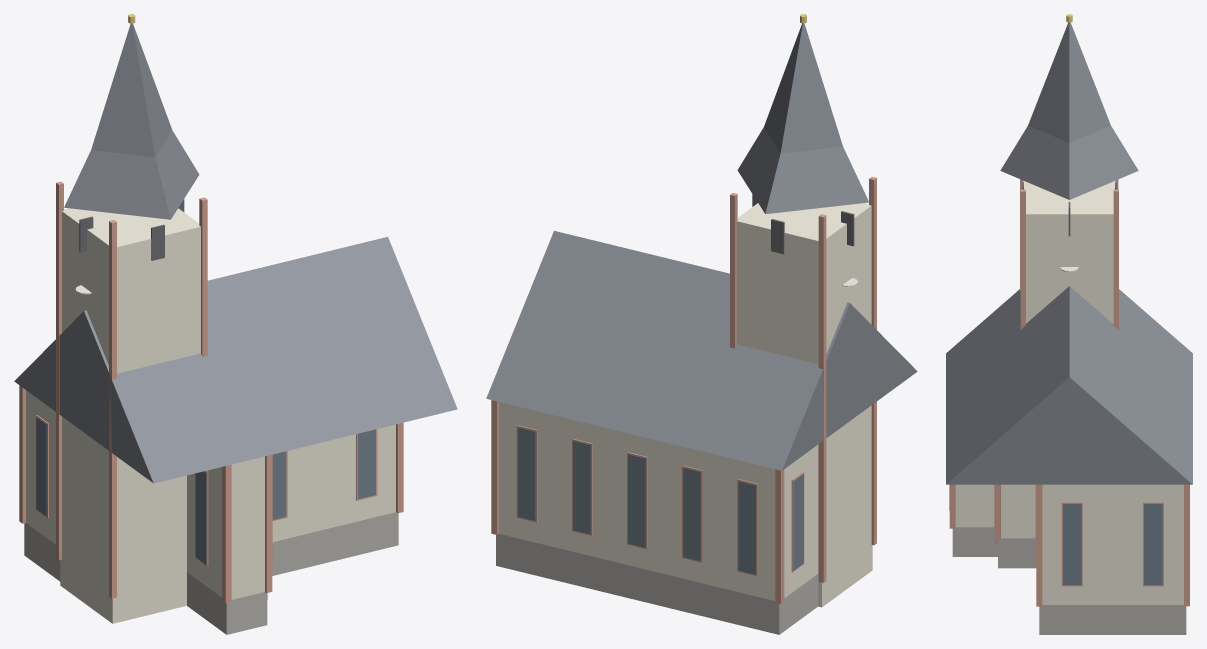
File: church-sankt-nikolaus.glb
The picture shows the model from 3 angles, left to right: view 1: azimuth 30°, elevation 25°; view 2: azimuth 150°, elevation 25°; view 3: azimuth 270°, elevation 25°; orthographic projection. The views are drawn at different scales.
Parts seen in each view (by area): view 1: building; view 2: building; view 3: building.
Boxes of the visible parts, box(x1,y1,x2,y2) form: building: box(14, 14, 457, 634); building: box(486, 14, 917, 634); building: box(946, 14, 1192, 634).
Size of the model in its own units: 25.1 by 42.8 by 18.72.
